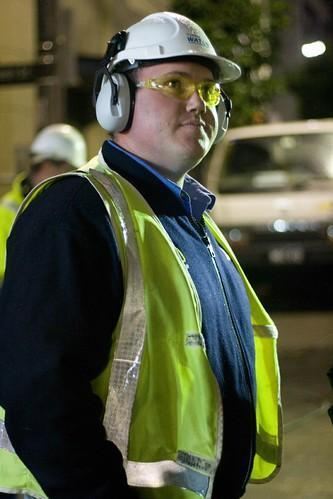vest: (0, 157, 288, 496), (0, 165, 27, 274)
